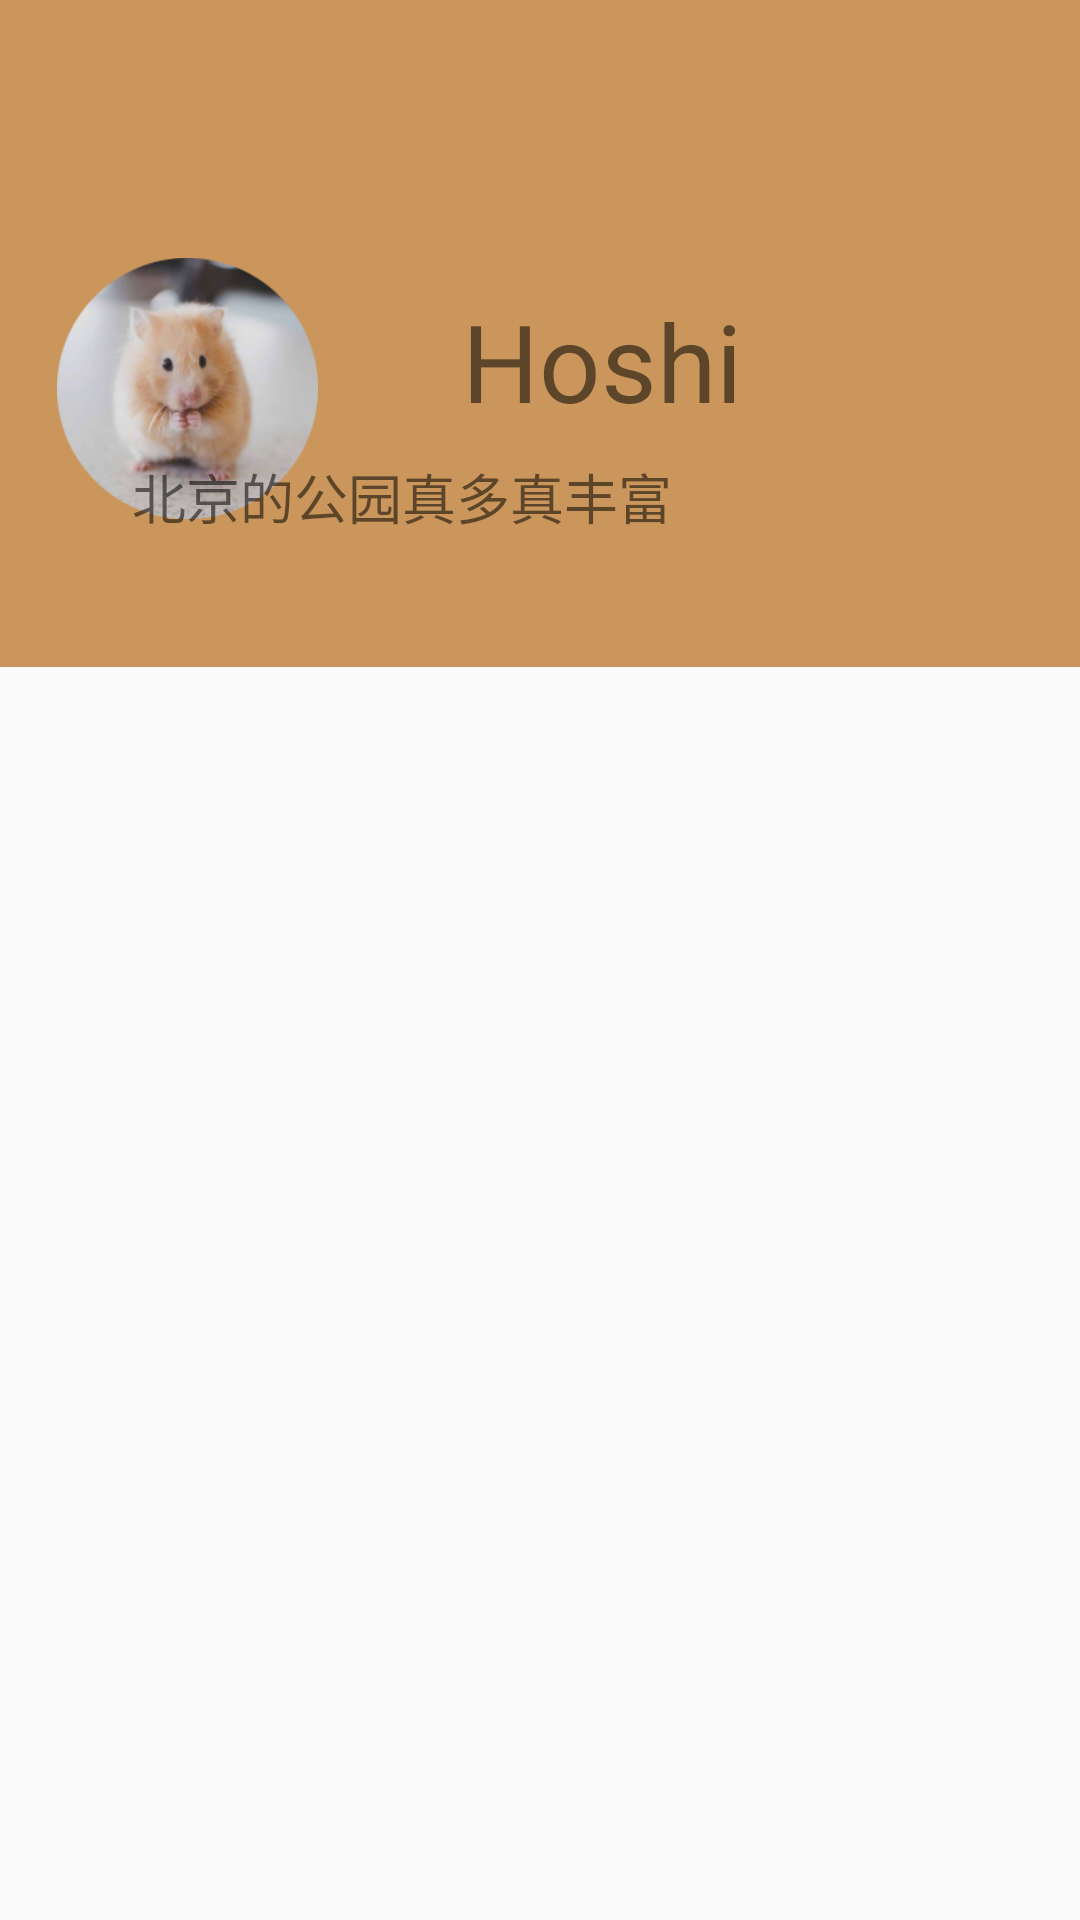

Locate icon controls on the screen. Image size 1080px x 1920px, boxes as region(x1, y1, x2, y2).
mice: region(57, 258, 318, 524)
